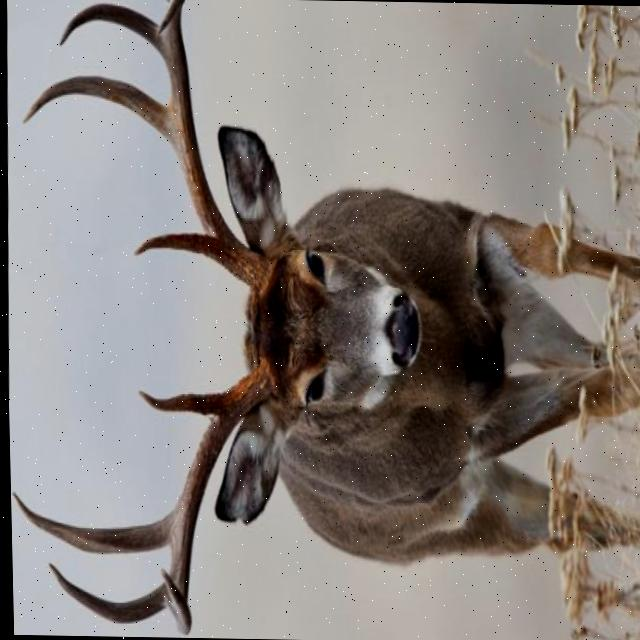L-F: (155, 367, 270, 635)
L-G1: (134, 389, 224, 416)
L-G2: (9, 492, 169, 554)
L-G3: (45, 563, 163, 623)
R-F: (154, 0, 276, 293)
R-G1: (130, 233, 216, 264)
R-G2: (20, 75, 171, 149)
R-G3: (57, 2, 166, 64)
